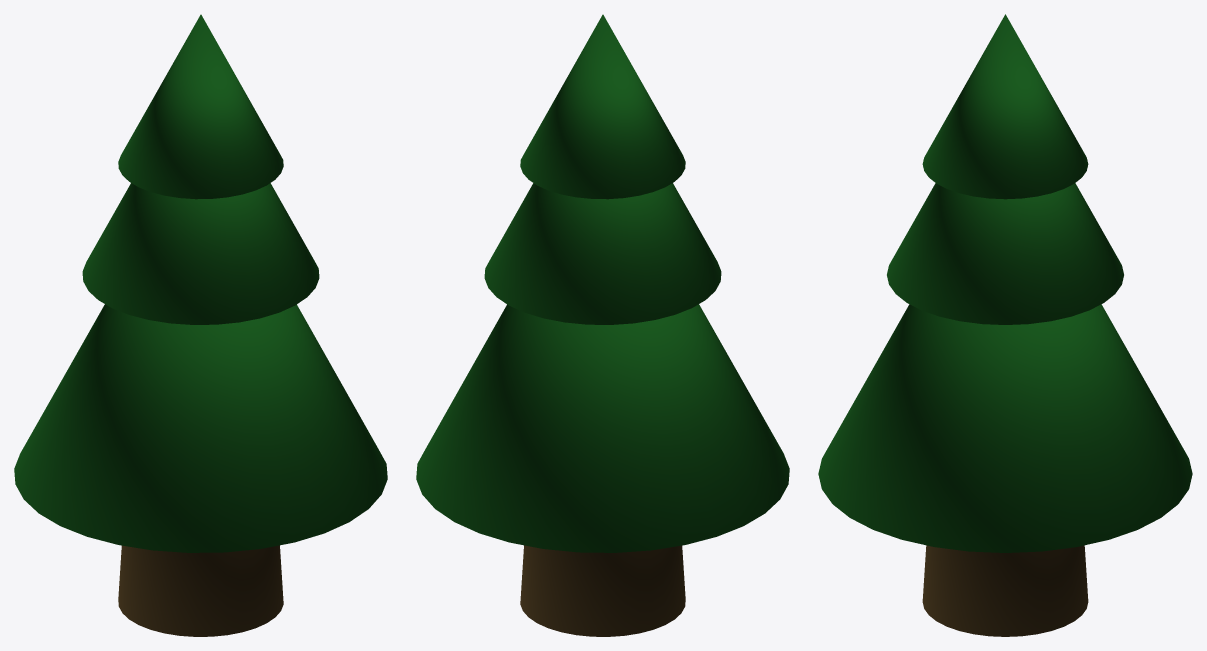
The model's file is tree.obj.
The picture shows the model from 3 angles, left to right: view 1: azimuth 30°, elevation 25°; view 2: azimuth 150°, elevation 25°; view 3: azimuth 270°, elevation 25°; orthographic projection.
Parts seen in each view (by area): view 1: Cone; view 2: Cone; view 3: Cone.
Part boxes in pixels (x1,y1,x2,y2): Cone: [14, 14, 387, 636]; Cone: [416, 14, 789, 636]; Cone: [818, 14, 1192, 636].
Size of the model in its own units: 4.52 by 7.83 by 4.52.
1 material, 1 textured.
